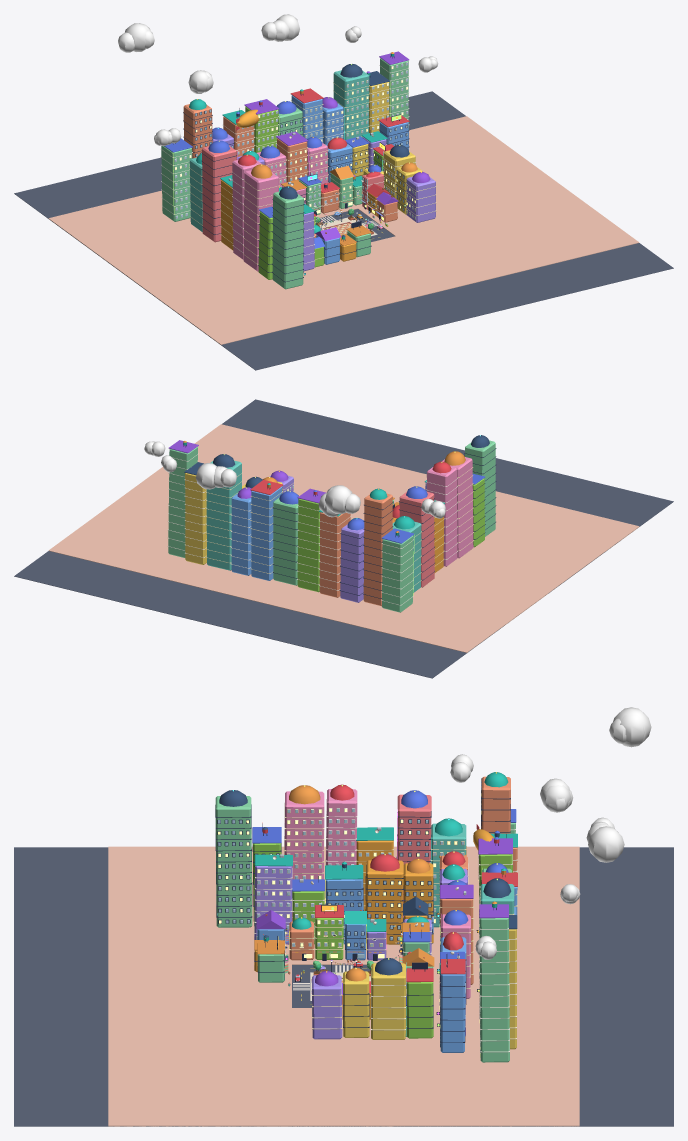
The model's file is city_decor_v2.glb.
The picture shows the model from 3 angles, top to bottom: view 1: azimuth 30°, elevation 25°; view 2: azimuth 150°, elevation 25°; view 3: azimuth 270°, elevation 25°; orthographic projection. The views are drawn at different scales.
Parts seen in each view (by area): view 1: city_decor; view 2: city_decor; view 3: city_decor.
Boxes of the visible parts, box(x1,y1,x2,y2) form: city_decor: box(14, 14, 673, 370); city_decor: box(14, 399, 673, 678); city_decor: box(14, 707, 673, 1126).
Size of the model in its own units: 280 by 98.71 by 280.
